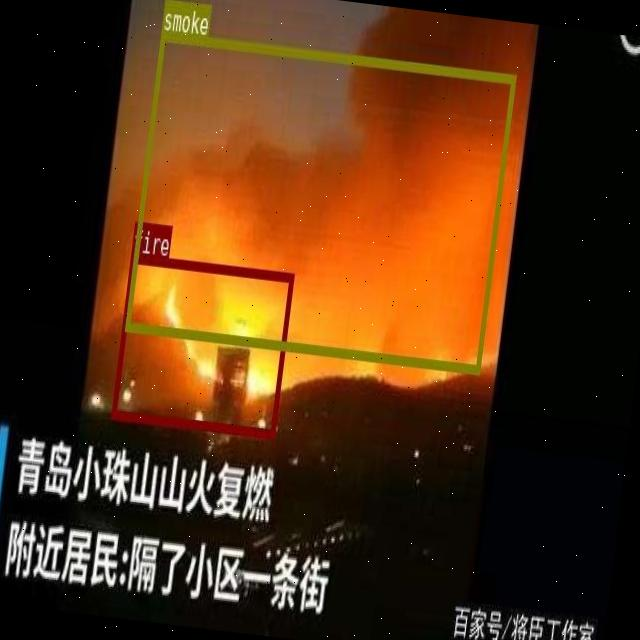fire: (110, 252, 292, 436)
smoke: (124, 29, 516, 372)
